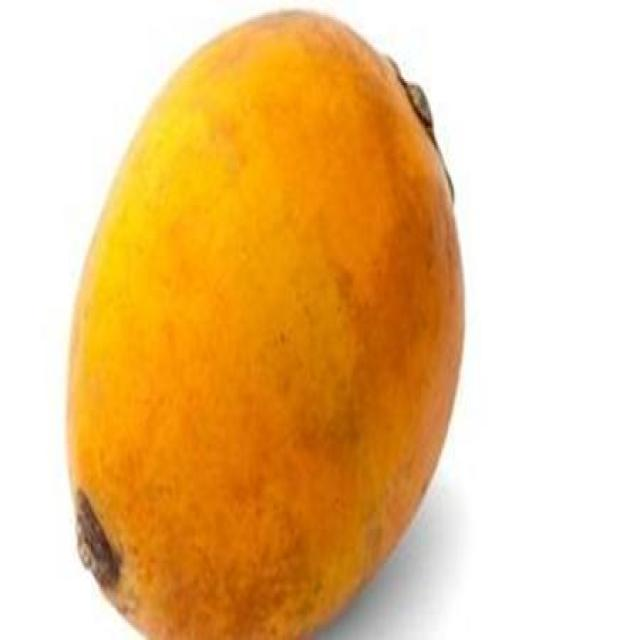good: (64, 11, 466, 638)
